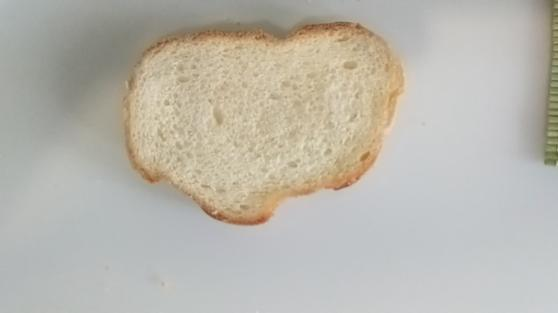white_bread: (127, 23, 407, 230)
